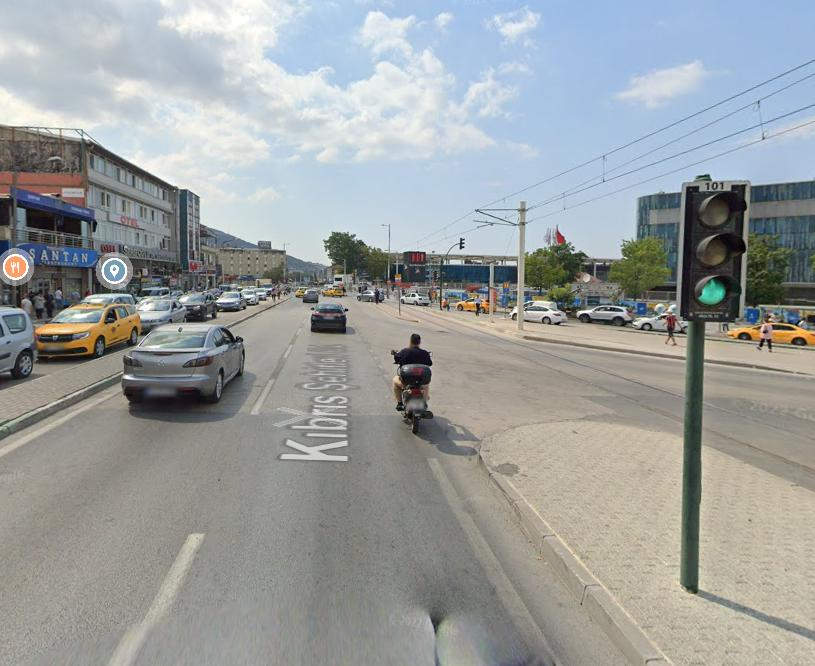greenlight: (684, 179, 748, 321)
